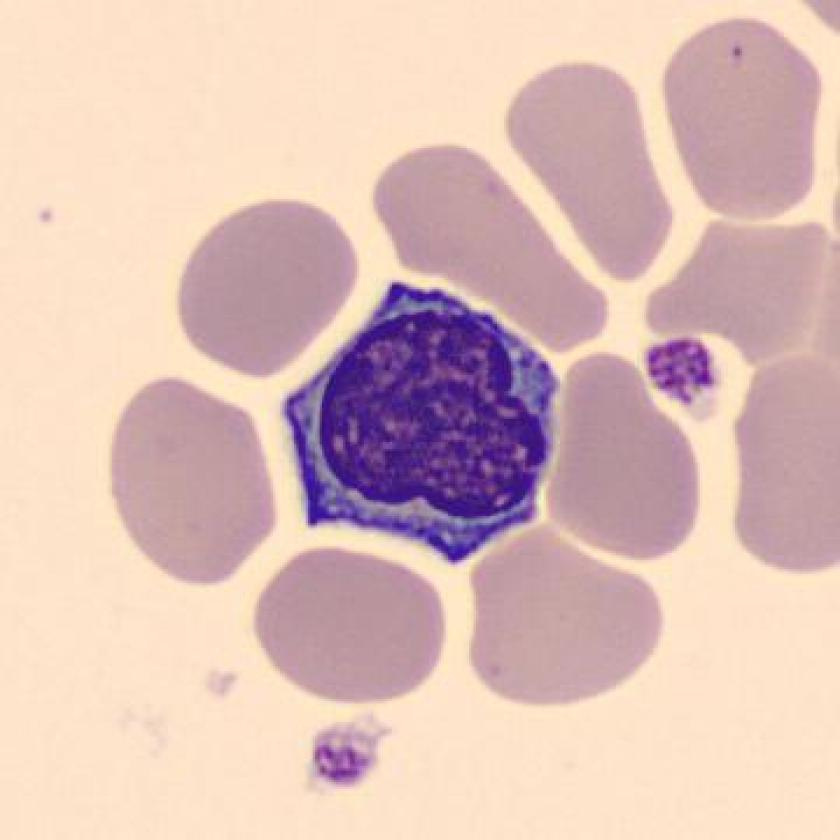lymphocyte: (269, 263, 580, 571)
